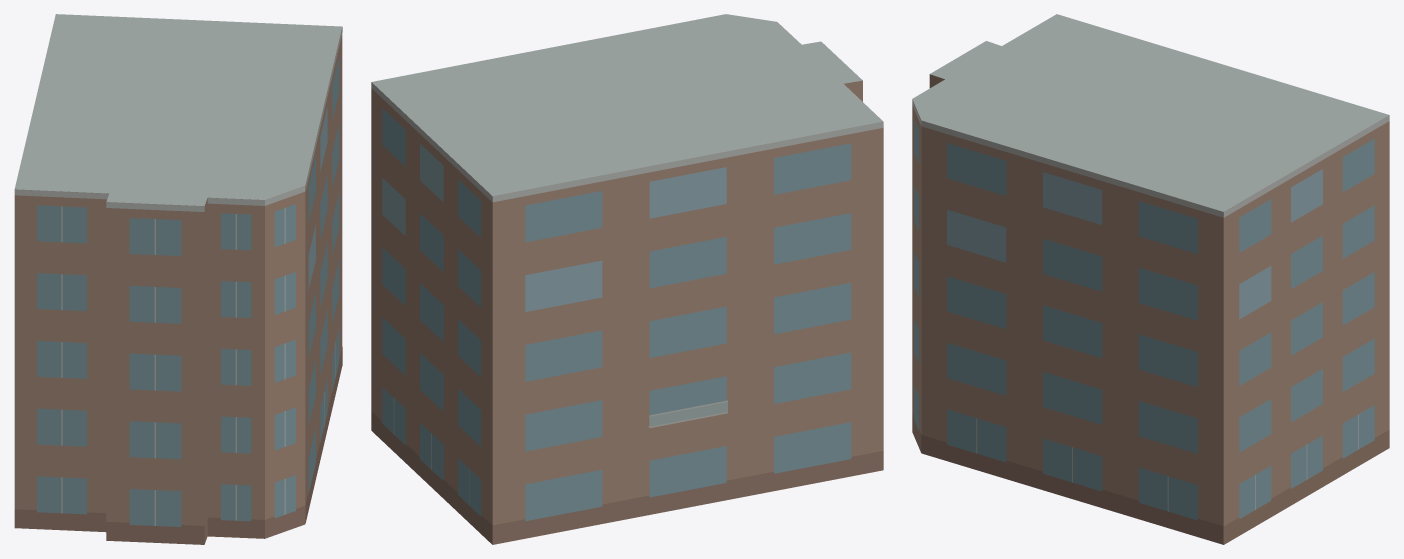
File: survey-upis-32836783.glb
3 renders of one model, left to right at view 1: azimuth 30°, elevation 25°; view 2: azimuth 150°, elevation 25°; view 3: azimuth 270°, elevation 25°, orthographic. The views are drawn at different scales.
Parts seen in each view (by area): view 1: survey-upis-32836783.tmp; view 2: survey-upis-32836783.tmp; view 3: survey-upis-32836783.tmp.
Boxes of the visible parts, x1,y1,x2,y2 form: survey-upis-32836783.tmp: (14, 14, 342, 544); survey-upis-32836783.tmp: (371, 14, 883, 544); survey-upis-32836783.tmp: (912, 14, 1389, 544).
Size of the model in its own units: 17.73 by 13.9 by 18.07.
